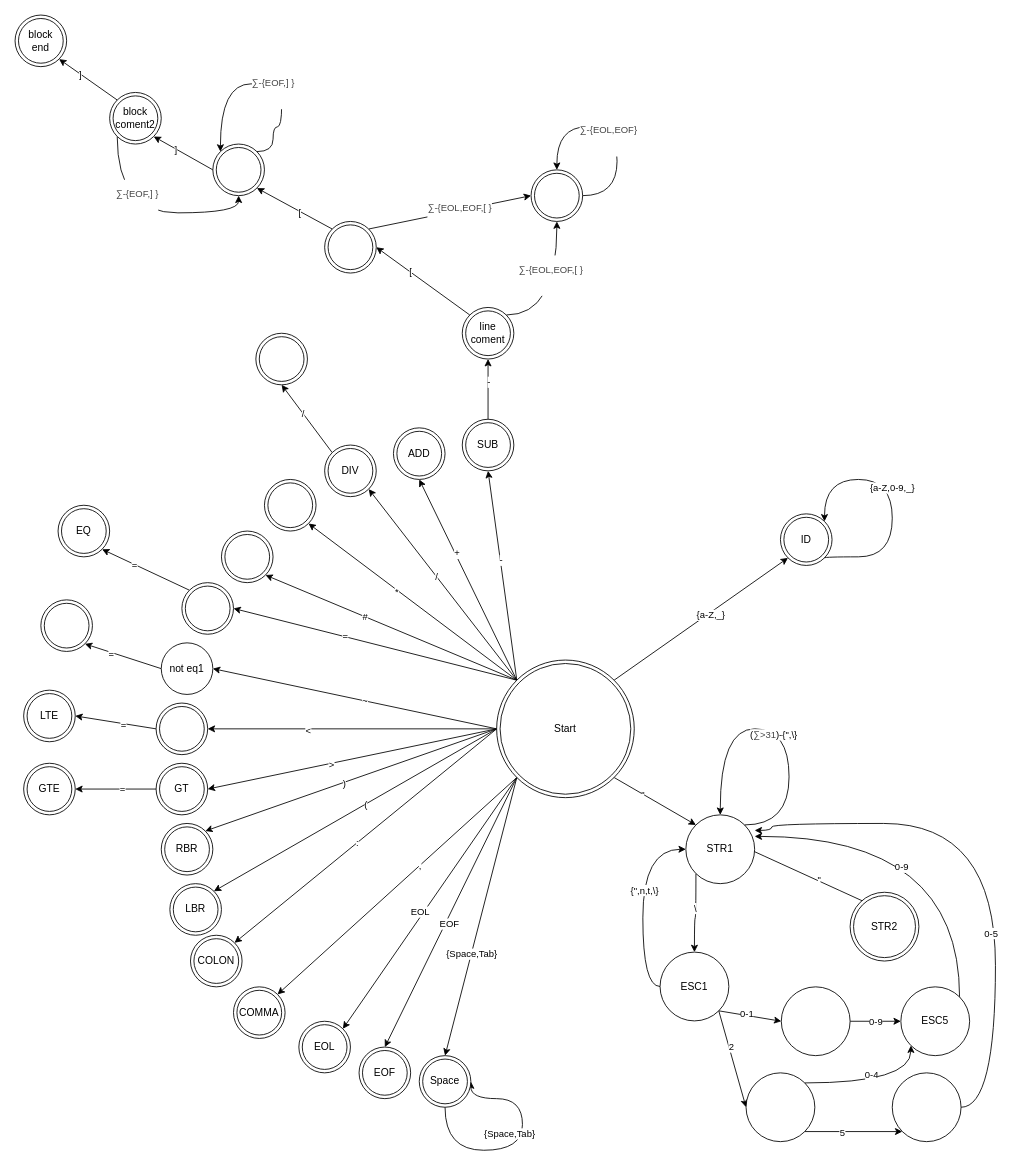
Image size: 1012x1165. Some labels were removed from this diagram. Here are the shapes that lost their labels. From the top down, the centre of each, then its label:
pixel 238 169: block coment
pixel 556 195: perma line coment
pixel 350 247: line coment2
pixel 281 358: DIV2
pixel 290 505: MUL
pixel 247 556: STR LEN
pixel 66 625: not eq2
pixel 207 608: ASSIGEN
pixel 181 728: LT
pixel 815 1021: ESC4
pixel 780 1107: ESC2
pixel 926 1107: ESC3
